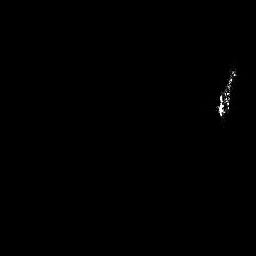ship: (216, 63, 239, 120)
